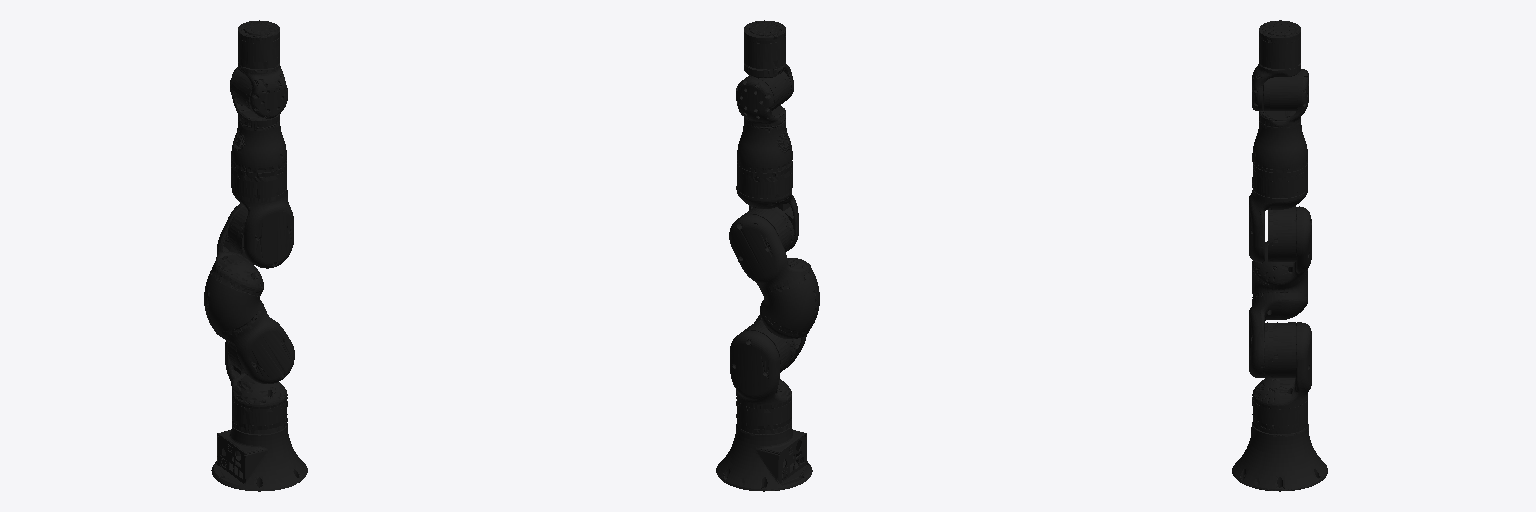
URDF robot description (igus_rebel):
<?xml version="1.0" encoding="utf-8"?>
<robot
  name="igus_rebel">
  <link
    name="base_link">
    <inertial>
      <origin
        xyz="-0.0011101 -0.00059494 0.040917"
        rpy="0 0 0" />
      <mass
        value="4.2944" />
      <inertia
        ixx="0.098117"
        ixy="4.4465E-07"
        ixz="3.3605E-05"
        iyy="0.086593"
        iyz="-1.8837E-06"
        izz="0.12838" />
    </inertial>
    <visual>
      <origin
        xyz="0 0 0"
        rpy="0 0 0" />
      <geometry>
        <mesh filename="package://igus_rebel_description_real/meshes/rebel_original/base_link.stl" />
      </geometry>
      <material name="rebel_dark"><color rgba="0.15 0.15 0.15 1.0"/></material>
    </visual>
    <collision>
      <geometry>
        <mesh filename="package://igus_rebel_description_real/meshes/rebel/base_link.stl" />
      </geometry>
    </collision>
  </link>
  <link
    name="motor1">
    <inertial>
      <origin
        xyz="0.00015243 0.00010812 -0.014668"
        rpy="0 0 0" />
      <mass
        value="2" />
      <inertia
        ixx="0.024041"
        ixy="8.3398E-08"
        ixz="-7.2533E-07"
        iyy="0.024081"
        iyz="-6.2967E-07"
        izz="0.037427" />
    </inertial>
    <visual>
      <origin
        xyz="0 0 0"
        rpy="0 0 0" />
      <geometry>
        <mesh filename="package://igus_rebel_description_real/meshes/rebel_original/motor1.stl" />
      </geometry>
      <material name="rebel_dark"><color rgba="0.15 0.15 0.15 1.0"/></material>
    </visual>
    <collision>
      <geometry>
        <mesh filename="package://igus_rebel_description_real/meshes/rebel/motor1.stl" />
      </geometry>
    </collision>
  </link>
  <joint
    name="J_motor1"
    type="fixed">
    <origin
      xyz="0 0 0.1462"
      rpy="0 0 3.1416" />
    <parent
      link="base_link" />
    <child
      link="motor1" />
  </joint>
  <link
    name="link1">
    <inertial>
      <origin
        xyz="2.5064E-06 -0.031151 0.06301"
        rpy="0 0 0" />
      <mass
        value="1.9246" />
      <inertia
        ixx="0.046865"
        ixy="-3.7969E-09"
        ixz="5.1665E-09"
        iyy="0.04904"
        iyz="0.00010721"
        izz="0.030611" />
    </inertial>
    <visual>
      <origin
        xyz="0 0 0"
        rpy="0 0 0" />
      <geometry>
        <mesh filename="package://igus_rebel_description_real/meshes/rebel_original/link1.stl" />
      </geometry>
      <material name="rebel_dark"><color rgba="0.15 0.15 0.15 1.0"/></material>
    </visual>
    <collision>
      <geometry>
        <mesh filename="package://igus_rebel_description_real/meshes/rebel/link1.stl" />
      </geometry>
    </collision>
  </link>
  <joint
    name="joint1"
    type="revolute">
    <origin
      xyz="0 0 0"
      rpy="0 0 0" />
    <parent
      link="motor1" />
    <child
      link="link1" />
    <axis
      xyz="0 0 1" />
    <limit
      lower="-3.1241"
      upper="3.1241"
      effort="330"
      velocity="2.16" />
    <dynamics
      damping="0.0001"
      friction="0.001" />
  </joint>
  <link
    name="motor2">
    <inertial>
      <origin
        xyz="0.00015243 0.014668 0.00010812"
        rpy="0 0 0" />
      <mass
        value="2" />
      <inertia
        ixx="0.024041"
        ixy="7.2533E-07"
        ixz="8.3398E-08"
        iyy="0.037427"
        iyz="6.2967E-07"
        izz="0.024081" />
    </inertial>
    <visual>
      <origin
        xyz="0 0 0"
        rpy="0 0 0" />
      <geometry>
        <mesh filename="package://igus_rebel_description_real/meshes/rebel_original/motor2.stl" />
      </geometry>
      <material name="rebel_dark"><color rgba="0.15 0.15 0.15 1.0"/></material>
    </visual>
    <collision>
      <geometry>
        <mesh filename="package://igus_rebel_description_real/meshes/rebel/motor2.stl" />
      </geometry>
    </collision>
  </link>
  <joint
    name="J_motor2"
    type="fixed">
    <origin
      xyz="0 -0.0225000000000001 0.106"
      rpy="0 0 0" />
    <parent
      link="link1" />
    <child
      link="motor2" />
  </joint>
  <link
    name="link2">
    <inertial>
      <origin
        xyz="0.023424 0.025337 0.10782"
        rpy="0 0 0" />
      <mass
        value="5.689" />
      <inertia
        ixx="0.1162"
        ixy="-2.0164E-11"
        ixz="-0.00018569"
        iyy="0.10155"
        iyz="5.9595E-10"
        izz="0.08965" />
    </inertial>
    <visual>
      <origin
        xyz="0 0 0"
        rpy="0 0 0" />
      <geometry>
        <mesh filename="package://igus_rebel_description_real/meshes/rebel_original/link2.stl" />
      </geometry>
      <material name="rebel_dark"><color rgba="0.15 0.15 0.15 1.0"/></material>
    </visual>
    <collision>
      <geometry>
        <mesh filename="package://igus_rebel_description_real/meshes/rebel/link2.stl" />
      </geometry>
    </collision>
  </link>
  <joint
    name="joint2"
    type="revolute">
    <origin
      xyz="0 0.049 0"
      rpy="0 0 0" />
    <parent
      link="motor2" />
    <child
      link="link2" />
    <axis
      xyz="0 -1 0" />
    <limit
      lower="-1.3500"
      upper="2.4435"
      effort="330"
      velocity="2.16" />
    <dynamics
      damping="0.0001"
      friction="0.001" />
  </joint>
  <link
    name="motor3">
    <inertial>
      <origin
        xyz="0.00015243 0.014668 0.00010812"
        rpy="0 0 0" />
      <mass
        value="2.0785" />
      <inertia
        ixx="0.024041"
        ixy="7.2533E-07"
        ixz="8.3398E-08"
        iyy="0.037427"
        iyz="6.2967E-07"
        izz="0.024081" />
    </inertial>
    <visual>
      <origin
        xyz="0 0 0"
        rpy="0 0 0" />
      <geometry>
        <mesh filename="package://igus_rebel_description_real/meshes/rebel_original/motor3.stl" />
      </geometry>
      <material name="rebel_dark"><color rgba="0.15 0.15 0.15 1.0"/></material>
    </visual>
    <collision>
      <geometry>
        <mesh filename="package://igus_rebel_description_real/meshes/rebel/motor3.stl" />
      </geometry>
    </collision>
  </link>
  <joint
    name="J_motor3"
    type="fixed">
    <origin
      xyz="0 -0.049 0.24152"
      rpy="0 0 0" />
    <parent
      link="link2" />
    <child
      link="motor3" />
  </joint>
  <link
    name="link3">
    <inertial>
      <origin
        xyz="1.8683E-06 0.030601 0.032537"
        rpy="0 0 0" />
      <mass
        value="2.5429" />
      <inertia
        ixx="0.051458"
        ixy="3.7774E-09"
        ixz="-4.5694E-09"
        iyy="0.057983"
        iyz="0.00010721"
        izz="0.035205" />
    </inertial>
    <visual>
      <origin
        xyz="0 0 0"
        rpy="0 0 0" />
      <geometry>
        <mesh filename="package://igus_rebel_description_real/meshes/rebel_original/link3.stl" />
      </geometry>
      <material name="rebel_dark"><color rgba="0.15 0.15 0.15 1.0"/></material>
    </visual>
    <collision>
      <geometry>
        <mesh filename="package://igus_rebel_description_real/meshes/rebel/link3.stl" />
      </geometry>
    </collision>
  </link>
  <joint
    name="joint3"
    type="revolute">
    <origin
      xyz="0 0.0225 0"
      rpy="0 0 0" />
    <parent
      link="motor3" />
    <child
      link="link3" />
    <axis
      xyz="0 -1 0" />
    <limit
      lower="-1.39626"
      upper="2.4000"
      effort="330"
      velocity="2.16" />
    <dynamics
      damping="0.0001"
      friction="0.001" />
  </joint>
  <link
    name="motor4">
    <inertial>
      <origin
        xyz="0.00015243 -0.00010812 0.014668"
        rpy="0 0 0" />
      <mass
        value="2.0785" />
      <inertia
        ixx="0.024041"
        ixy="-8.3398E-08"
        ixz="7.2533E-07"
        iyy="0.024081"
        iyz="-6.2967E-07"
        izz="0.037427" />
    </inertial>
    <visual>
      <origin
        xyz="0 0 0"
        rpy="0 0 0" />
      <geometry>
        <mesh filename="package://igus_rebel_description_real/meshes/rebel_original/motor4.stl" />
      </geometry>
      <material name="rebel_dark"><color rgba="0.15 0.15 0.15 1.0"/></material>
    </visual>
    <collision>
      <geometry>
        <mesh filename="package://igus_rebel_description_real/meshes/rebel/motor4.stl" />
      </geometry>
    </collision>
  </link>
  <joint
    name="J_motor4"
    type="fixed">
    <origin
      xyz="0.0013449814287804 0 0.105479407401356"
      rpy="0 0 0" />
    <parent
      link="link3" />
    <child
      link="motor4" />
  </joint>
  <link
    name="link4">
    <inertial>
      <origin
        xyz="-0.0070458 -0.00089773 0.05185"
        rpy="0 0 0" />
      <mass
        value="2.2059" />
      <inertia
        ixx="0.02402"
        ixy="1.096E-07"
        ixz="2.3983E-05"
        iyy="0.025662"
        iyz="-1.1343E-06"
        izz="0.030673" />
    </inertial>
    <visual>
      <origin
        xyz="0 0 0"
        rpy="0 0 0" />
      <geometry>
        <mesh filename="package://igus_rebel_description_real/meshes/rebel_original/link4.stl" />
      </geometry>
      <material name="rebel_dark"><color rgba="0.15 0.15 0.15 1.0"/></material>
    </visual>
    <collision>
      <geometry>
        <mesh filename="package://igus_rebel_description_real/meshes/rebel/link4.stl" />
      </geometry>
    </collision>
  </link>
  <joint
    name="joint4"
    type="revolute">
    <origin
      xyz="0 0 0.052"
      rpy="0 0 0" />
    <parent
      link="motor4" />
    <child
      link="link4" />
    <axis
      xyz="0 0 1" />
    <limit
      lower="-3.12414"
      upper="3.12414"
      effort="330"
      velocity="2.16" />
    <dynamics
      damping="0.0001"
      friction="0.001" />
  </joint>
  <link
    name="motor5">
    <inertial>
      <origin
        xyz="3.9518E-05 0.02054 -0.00015792"
        rpy="0 0 0" />
      <mass
        value="1.3011" />
      <inertia
        ixx="0.010922"
        ixy="3.1358E-08"
        ixz="1.683E-08"
        iyy="0.014448"
        iyz="-3.8659E-08"
        izz="0.010868" />
    </inertial>
    <visual>
      <origin
        xyz="0 0 0"
        rpy="0 0 0" />
      <geometry>
        <mesh filename="package://igus_rebel_description_real/meshes/rebel_original/motor5.stl" />
      </geometry>
      <material name="rebel_dark"><color rgba="0.15 0.15 0.15 1.0"/></material>
    </visual>
    <collision>
      <geometry>
        <mesh filename="package://igus_rebel_description_real/meshes/rebel/motor5.stl" />
      </geometry>
    </collision>
  </link>
  <joint
    name="J_motor5"
    type="fixed">
    <origin
      xyz="0 -0.0182 0.142"
      rpy="0 0 0" />
    <parent
      link="link4" />
    <child
      link="motor5" />
  </joint>
  <link
    name="link5">
    <inertial>
      <origin
        xyz="7.5874E-05 0.022847 0.026585"
        rpy="0 0 0" />
      <mass
        value="0.70922" />
      <inertia
        ixx="0.0091752"
        ixy="-5.1443E-08"
        ixz="-7.751E-09"
        iyy="0.0086093"
        iyz="2.4553E-05"
        izz="0.0079966" />
    </inertial>
    <visual>
      <origin
        xyz="0 0 0"
        rpy="0 0 0" />
      <geometry>
        <mesh filename="package://igus_rebel_description_real/meshes/rebel_original/link5.stl" />
      </geometry>
      <material name="rebel_dark"><color rgba="0.15 0.15 0.15 1.0"/></material>
    </visual>
    <collision>
      <geometry>
        <mesh filename="package://igus_rebel_description_real/meshes/rebel/link5.stl" />
      </geometry>
    </collision>
  </link>
  <joint
    name="joint5"
    type="revolute">
    <origin
      xyz="0 0.0182 0"
      rpy="0 0 0" />
    <parent
      link="motor5" />
    <child
      link="link5" />
    <axis
      xyz="0 -1 0" />
    <limit
      lower="-1.65806"
      upper="1.65806"
      effort="330"
      velocity="2.16" />
    <dynamics
      damping="0.0001"
      friction="0.001" />
  </joint>
  <link
    name="link6">
    <inertial>
      <origin
        xyz="-0.00016088 -4.7449E-05 0.021219"
        rpy="0 0 0" />
      <mass
        value="1.2658" />
      <inertia
        ixx="0.010763"
        ixy="-2.2861E-07"
        ixz="-4.9144E-08"
        iyy="0.010792"
        iyz="-2.2502E-08"
        izz="0.014496" />
    </inertial>
    <visual>
      <origin
        xyz="0 0 0"
        rpy="0 0 0" />
      <geometry>
        <mesh filename="package://igus_rebel_description_real/meshes/rebel_original/link6.stl" />
      </geometry>
      <material name="rebel_dark"><color rgba="0.15 0.15 0.15 1.0"/></material>
    </visual>
    <collision>
      <geometry>
        <mesh filename="package://igus_rebel_description_real/meshes/rebel/link6.stl" />
      </geometry>
    </collision>
  </link>
  <joint
    name="joint6"
    type="revolute">
    <origin
      xyz="0 0 0.0768"
      rpy="0 0 0" />
    <parent
      link="link5" />
    <child
      link="link6" />
    <axis
      xyz="0 0 1" />
    <limit
      lower="-3.12414"
      upper="3.12414"
      effort="330"
      velocity="2.16" />
    <dynamics
      damping="0.0001"
      friction="0.001" />
  </joint>
</robot>

--- Facts derived from the render (not from the file) ---
3 views of the same robot in one strip: view 1: azimuth 30°, elevation 25°; view 2: azimuth 150°, elevation 25°; view 3: azimuth 270°, elevation 25° (orthographic).
Robot: igus_rebel — 12 links, 11 joints (6 revolute, 5 fixed); root link base_link; default pose: all joints at 0.
Links seen in each view (by area): view 1: link2, base_link, link3, link4, link6, link5, link1, motor4, motor1, motor3; view 2: link2, base_link, link4, link1, link6, motor4, motor1, link3, motor3, motor2, motor5; view 3: link2, base_link, link4, link1, link6, motor2, link3, motor3, motor4, motor1, motor5, link5.
Link boxes in pixels (x1=…): link2: x1=204, y1=203, x2=294, y2=383; base_link: x1=211, y1=423, x2=307, y2=491; link3: x1=232, y1=189, x2=293, y2=268; link4: x1=230, y1=67, x2=286, y2=172; link6: x1=238, y1=20, x2=279, y2=68; link5: x1=238, y1=62, x2=287, y2=118; link1: x1=225, y1=340, x2=287, y2=408; motor4: x1=231, y1=163, x2=286, y2=198; motor1: x1=232, y1=397, x2=287, y2=433; motor3: x1=228, y1=206, x2=247, y2=258; link2: x1=729, y1=214, x2=819, y2=364; base_link: x1=716, y1=424, x2=812, y2=491; link4: x1=736, y1=77, x2=792, y2=172; link1: x1=730, y1=330, x2=791, y2=408; link6: x1=744, y1=20, x2=785, y2=68; motor4: x1=737, y1=161, x2=792, y2=198; motor1: x1=736, y1=397, x2=791, y2=433; link3: x1=736, y1=186, x2=798, y2=248; motor3: x1=742, y1=207, x2=793, y2=251; motor2: x1=741, y1=320, x2=793, y2=372; motor5: x1=746, y1=71, x2=791, y2=110; link2: x1=1249, y1=206, x2=1311, y2=377; base_link: x1=1232, y1=423, x2=1327, y2=491; link4: x1=1252, y1=69, x2=1308, y2=172; link1: x1=1252, y1=322, x2=1311, y2=408; link6: x1=1259, y1=20, x2=1300, y2=68; motor2: x1=1268, y1=322, x2=1295, y2=377; link3: x1=1249, y1=189, x2=1307, y2=261; motor3: x1=1268, y1=206, x2=1295, y2=261; motor4: x1=1252, y1=163, x2=1307, y2=197; motor1: x1=1252, y1=397, x2=1307, y2=433; motor5: x1=1263, y1=74, x2=1297, y2=110; link5: x1=1252, y1=62, x2=1300, y2=110.
Bounding box of the posed robot: 0.2036 × 0.1812 × 0.9222 m (x, y, z).
Meshes: 12 distinct files referenced, 12 mesh visuals loaded (12 binary STL).
